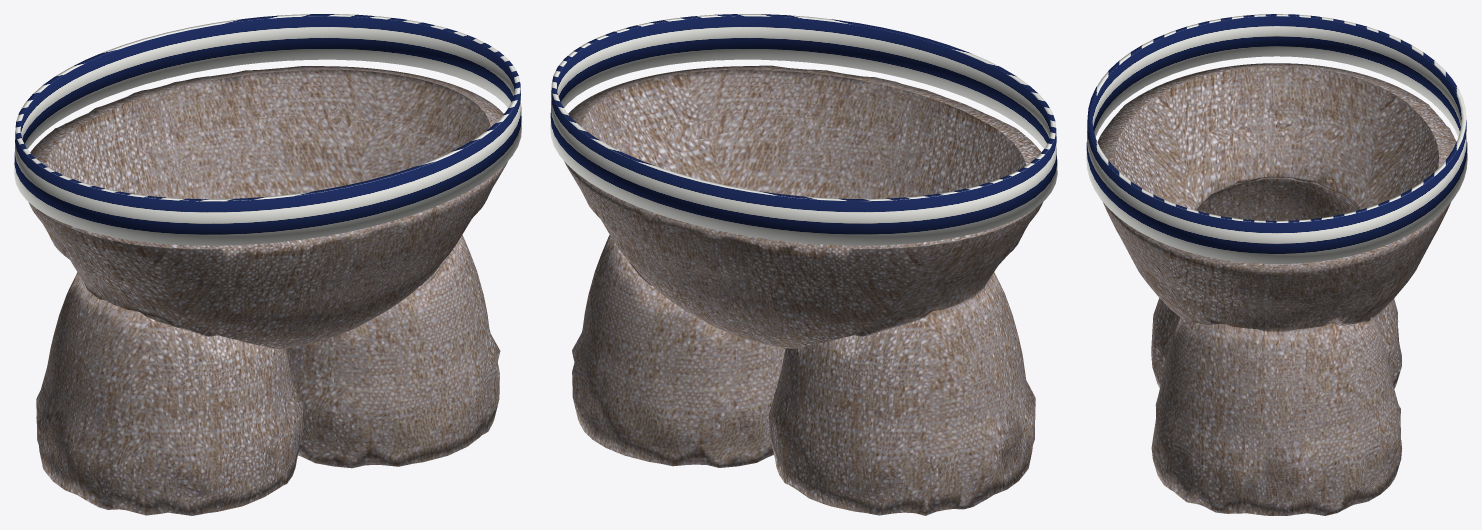
File: baggy4.fbx
The picture shows the model from 3 angles, left to right: view 1: azimuth 30°, elevation 25°; view 2: azimuth 150°, elevation 25°; view 3: azimuth 270°, elevation 25°; orthographic projection. The views are drawn at different scales.
Visible parts, largest first — view 1: baggy4; view 2: baggy4; view 3: baggy4.
Boxes of the visible parts, x1=… form: baggy4: x1=14, y1=14, x2=521, y2=515; baggy4: x1=550, y1=14, x2=1057, y2=515; baggy4: x1=1086, y1=14, x2=1467, y2=515.
Bounding box in the file's own units: 0.8281 × 0.5657 × 0.6356.
Materials: 2 (2 with a texture image).
